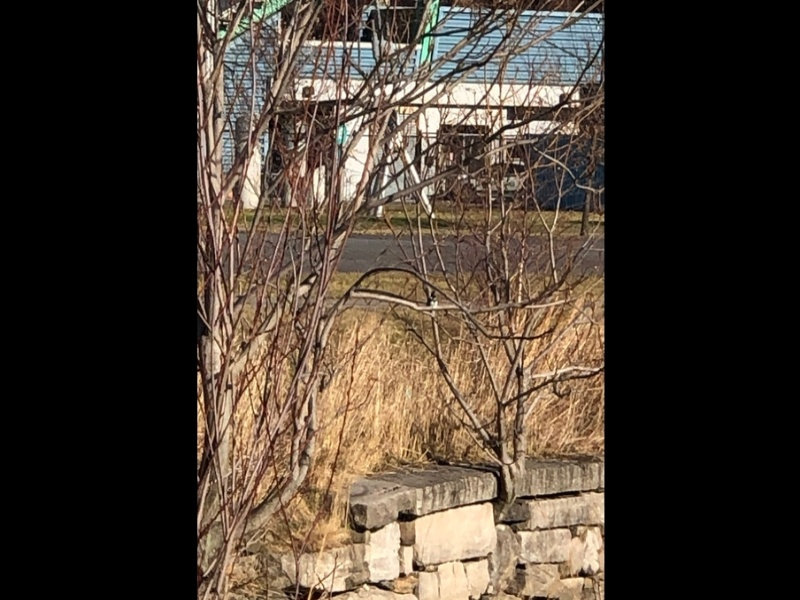kingfisher: (428, 291, 438, 308)
